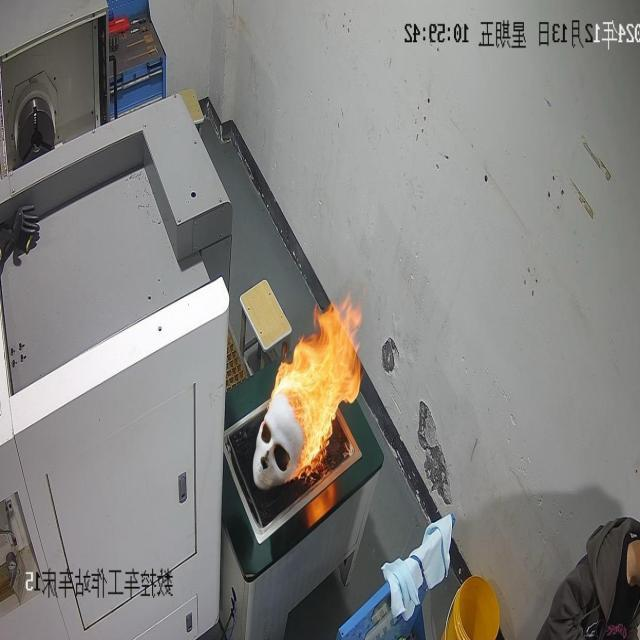smoke: (254, 288, 362, 486)
